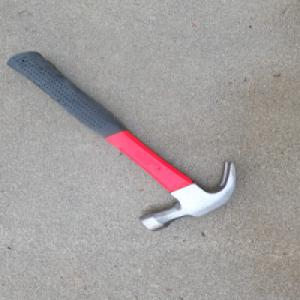Hammer: (5, 50, 239, 234)
